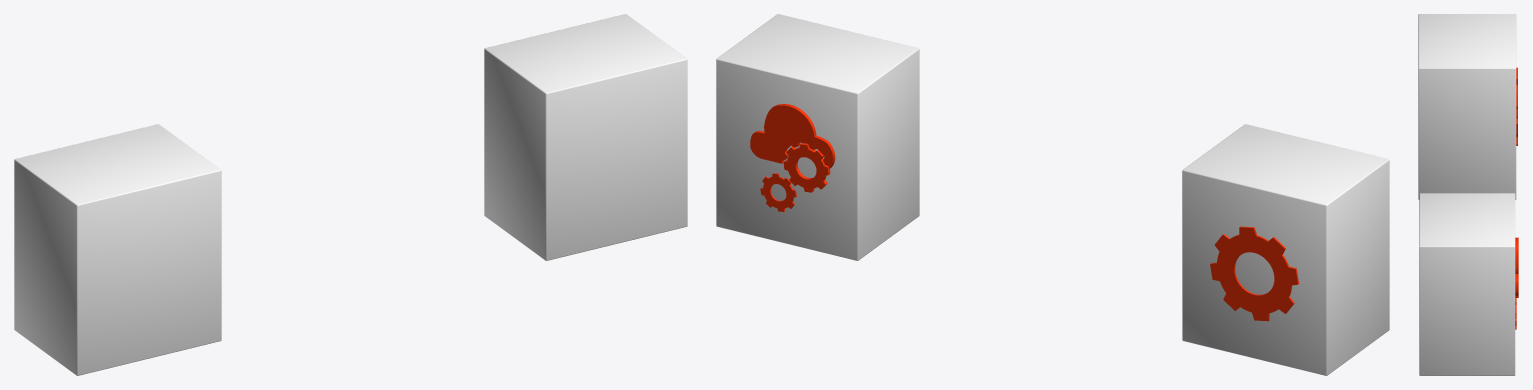
The model's file is both gear_gltf.gltf.
The picture shows the model from 3 angles, left to right: view 1: azimuth 30°, elevation 25°; view 2: azimuth 150°, elevation 25°; view 3: azimuth 270°, elevation 25°; orthographic projection. The views are drawn at different scales.
Parts seen in each view (by area): view 1: ChamferBox048, ChamferBox049; view 2: ChamferBox048, ChamferBox049, Object007, Line013, Object008; view 3: ChamferBox048, ChamferBox049, Line013, Object007.
Part boxes in pixels (<box>): ChamferBox048: <box>14,124,221,375</box>; ChamferBox049: <box>484,14,687,260</box>; ChamferBox048: <box>1182,124,1389,375</box>; ChamferBox049: <box>716,14,919,260</box>; Object007: <box>1210,226,1299,321</box>; Line013: <box>750,104,835,192</box>; Object008: <box>760,173,796,211</box>; ChamferBox048: <box>1418,14,1516,199</box>; ChamferBox049: <box>1419,193,1515,375</box>; Line013: <box>1515,237,1518,297</box>; Object007: <box>1516,67,1517,145</box>.
Bounding box in the file's own units: 2.95 × 0.79 × 0.5421.
